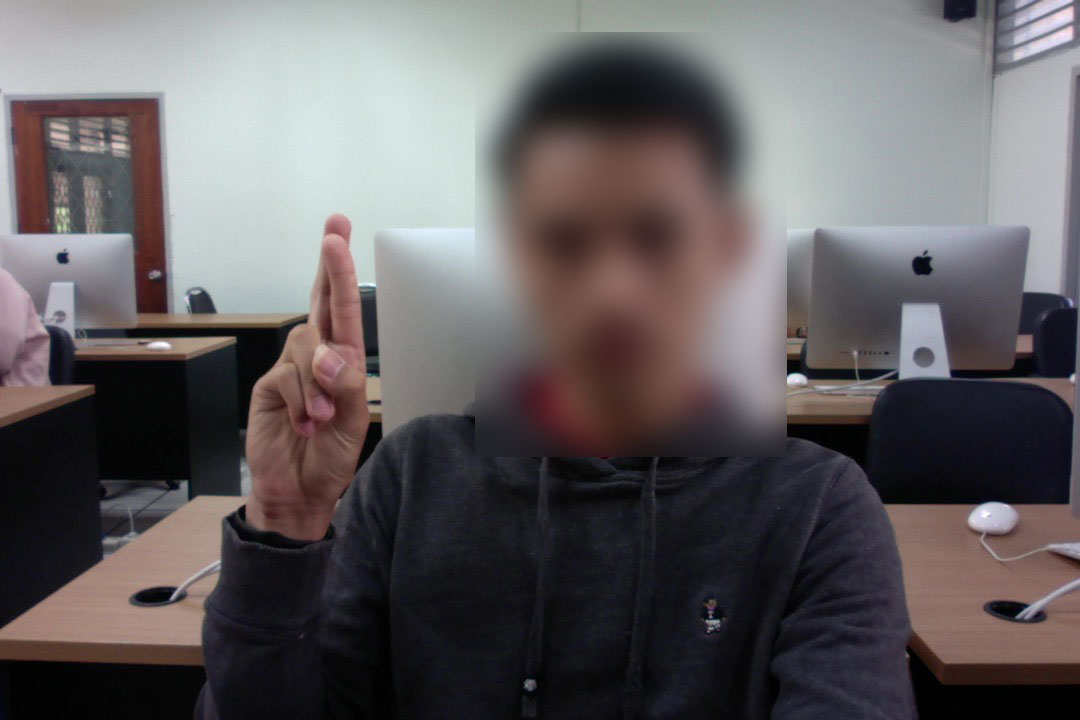rao: (233, 211, 386, 516)
